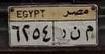2: (21, 23, 31, 42)
4: (42, 24, 51, 42)
5: (31, 27, 41, 41)
6: (10, 23, 20, 44)
meem: (83, 23, 94, 43)
noon: (70, 24, 81, 42)
raa: (55, 27, 67, 42)
